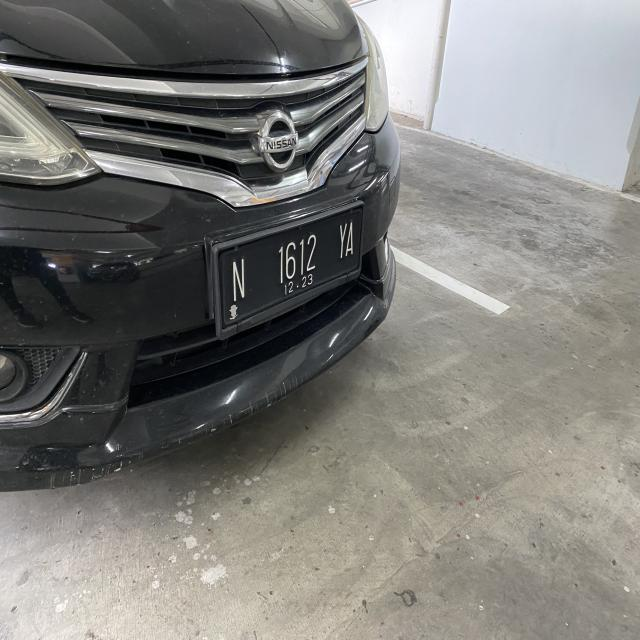1: (278, 244, 284, 289), (300, 236, 306, 278)
2: (305, 234, 316, 272)
6: (284, 240, 298, 282)
A: (348, 220, 356, 259)
N: (228, 258, 250, 301)
Y: (338, 222, 346, 260)
